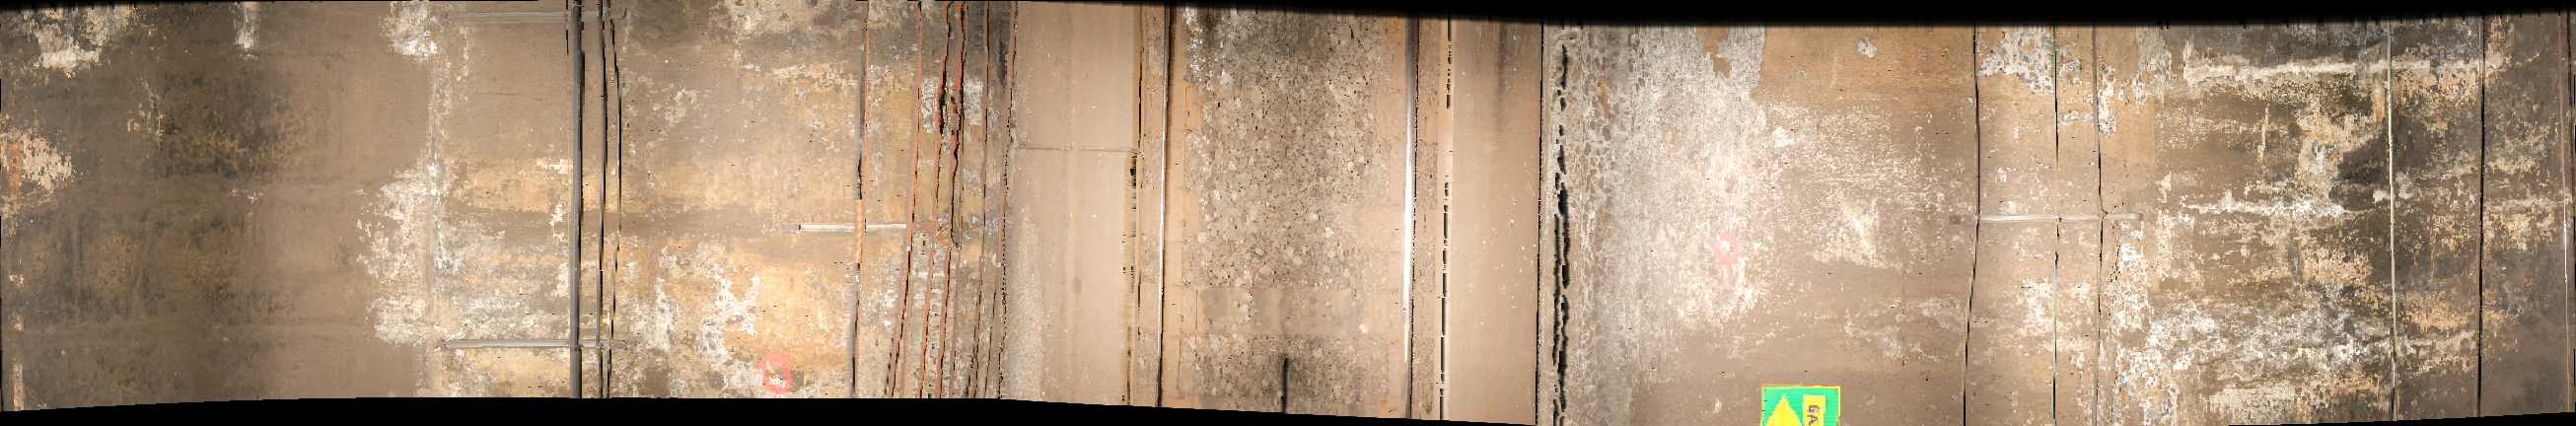pipes: (567, 5, 628, 414), (2384, 25, 2410, 426), (2047, 30, 2070, 426), (2473, 20, 2491, 426)
sign: (1761, 387, 1840, 421)
tracks: (1010, 5, 1546, 426)
